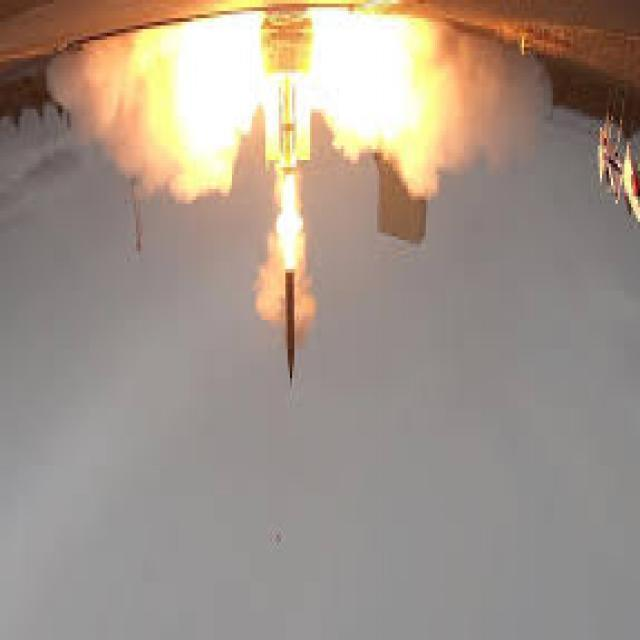Missile: (279, 257, 301, 391)
